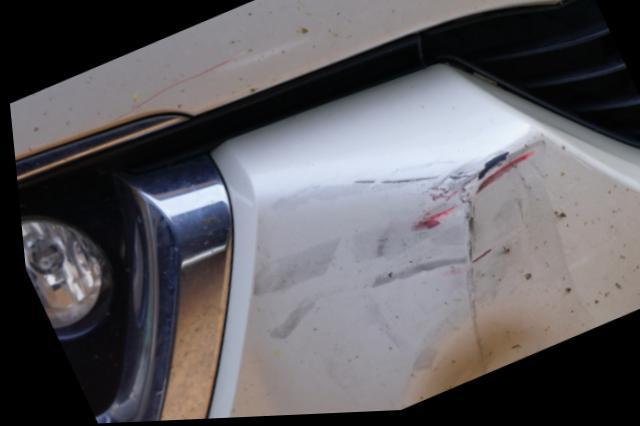dent: (402, 311, 561, 408)
scratch: (240, 136, 546, 354)
